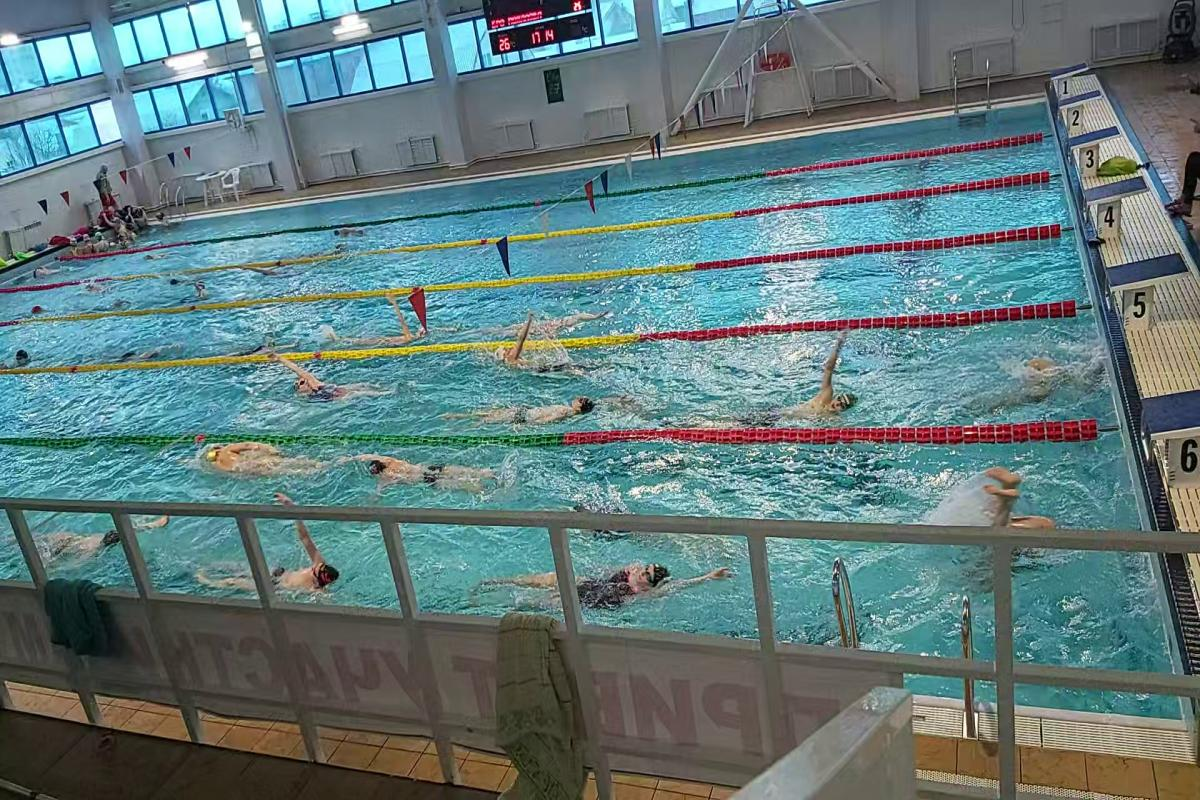swimmer: (493, 549, 735, 610), (972, 453, 1079, 561), (204, 529, 343, 600), (338, 443, 500, 496), (260, 351, 392, 404), (37, 508, 166, 560), (772, 354, 862, 427), (457, 389, 638, 424), (195, 441, 323, 480), (490, 330, 588, 372), (343, 318, 430, 346)
